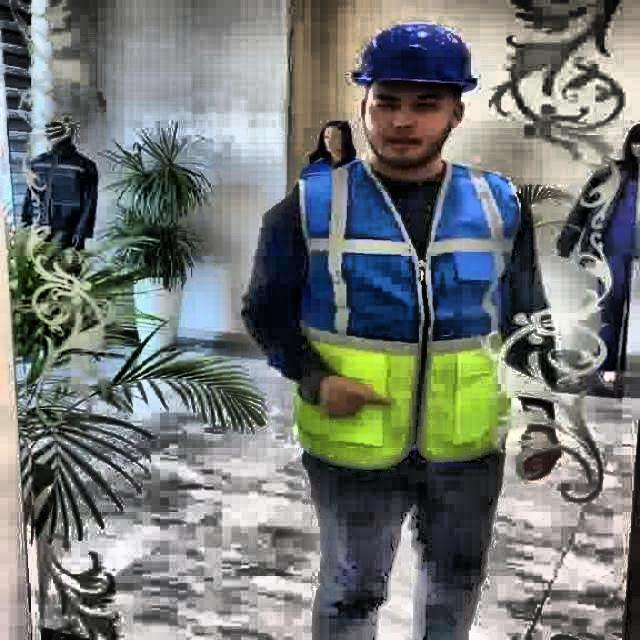safety_helmet: (351, 22, 478, 94)
safety_jacket: (294, 158, 514, 472)
